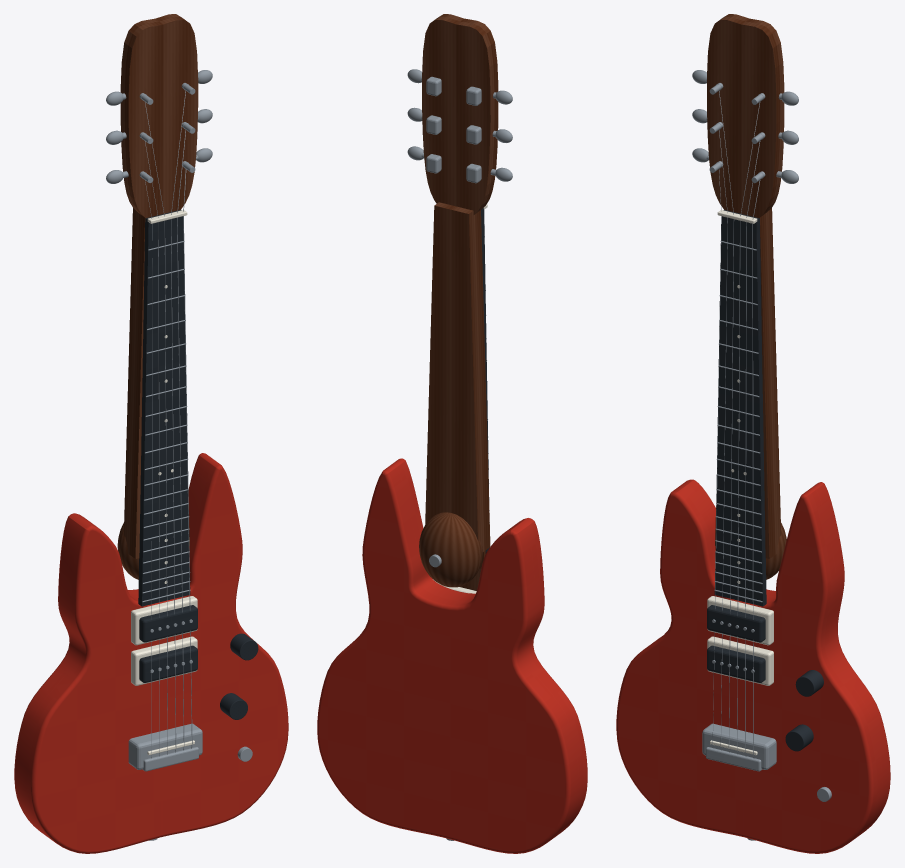
The model's file is solid-body-electric-guitar.glb.
3 renders of one model, left to right at view 1: azimuth 30°, elevation 25°; view 2: azimuth 150°, elevation 25°; view 3: azimuth 330°, elevation 25°, orthographic.
Visible parts, largest first — view 1: Original carved solid instrument body, Individually fretted fingerboard, Original tapered headstock, Tapered maple neck, Bridge base, Pickup cover.001, Pickup cover, Pickup mounting ring, Pickup mounting ring.001, String 04, String 05, Seated string anchor bar (+6 smaller); view 2: Original carved solid instrument body, Tapered maple neck, Original tapered headstock, Seated neck heel, Individually fretted fingerboard; view 3: Original carved solid instrument body, Individually fretted fingerboard, Original tapered headstock, Tapered maple neck, Bridge base, Pickup cover.001, Pickup cover, Pickup mounting ring, Pickup mounting ring.001, String 06, String 04, Seated string anchor bar (+5 smaller).
Boxes of the visible parts, left/top/right/bottom form: Original carved solid instrument body: left=14, top=453, right=288, bottom=853; Individually fretted fingerboard: left=138, top=209, right=190, bottom=606; Original tapered headstock: left=120, top=14, right=198, bottom=217; Tapered maple neck: left=123, top=208, right=189, bottom=558; Bridge base: left=128, top=723, right=202, bottom=769; Pickup cover.001: left=139, top=605, right=197, bottom=642; Pickup cover: left=139, top=645, right=197, bottom=682; Pickup mounting ring: left=131, top=636, right=197, bottom=685; Pickup mounting ring.001: left=131, top=596, right=197, bottom=645; String 04: left=171, top=91, right=185, bottom=752; String 05: left=177, top=130, right=185, bottom=750; Seated string anchor bar: left=142, top=747, right=198, bottom=771; Original carved solid instrument body: left=317, top=458, right=587, bottom=853; Tapered maple neck: left=425, top=202, right=490, bottom=551; Original tapered headstock: left=422, top=14, right=498, bottom=214; Seated neck heel: left=419, top=512, right=482, bottom=587; Individually fretted fingerboard: left=481, top=208, right=489, bottom=553; Original carved solid instrument body: left=616, top=479, right=890, bottom=853; Individually fretted fingerboard: left=714, top=209, right=766, bottom=606; Original tapered headstock: left=707, top=14, right=784, bottom=217; Tapered maple neck: left=715, top=208, right=781, bottom=558; Bridge base: left=702, top=723, right=776, bottom=769; Pickup cover.001: left=707, top=605, right=765, bottom=642; Pickup cover: left=707, top=645, right=765, bottom=682; Pickup mounting ring: left=707, top=636, right=773, bottom=685; Pickup mounting ring.001: left=707, top=596, right=773, bottom=645; String 06: left=752, top=180, right=760, bottom=758; String 04: left=737, top=102, right=760, bottom=754; Seated string anchor bar: left=706, top=747, right=762, bottom=771.
Size of the model in its own units: 0.3298 by 1.01 by 0.0925.
Materials: 5 (5 with a texture image).
